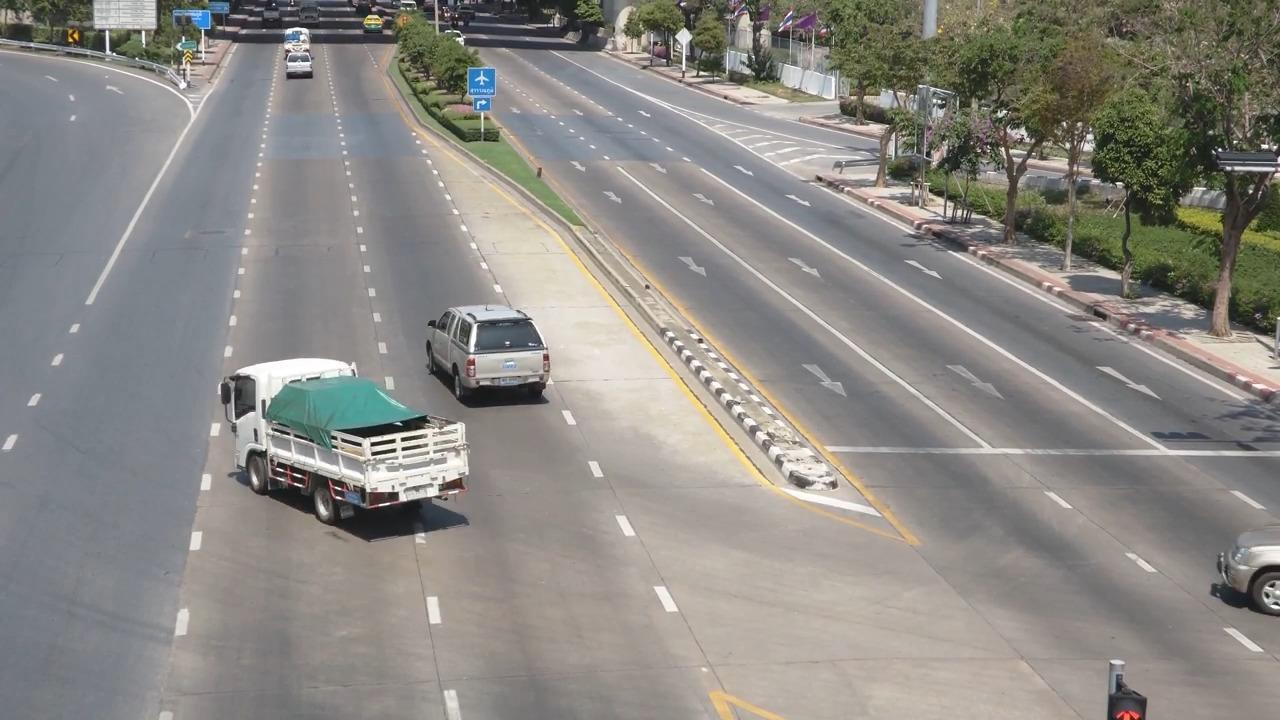CAR: (202, 344, 485, 542), (420, 291, 574, 409), (277, 50, 324, 87), (291, 0, 331, 41), (273, 27, 318, 62), (247, 7, 286, 41)
